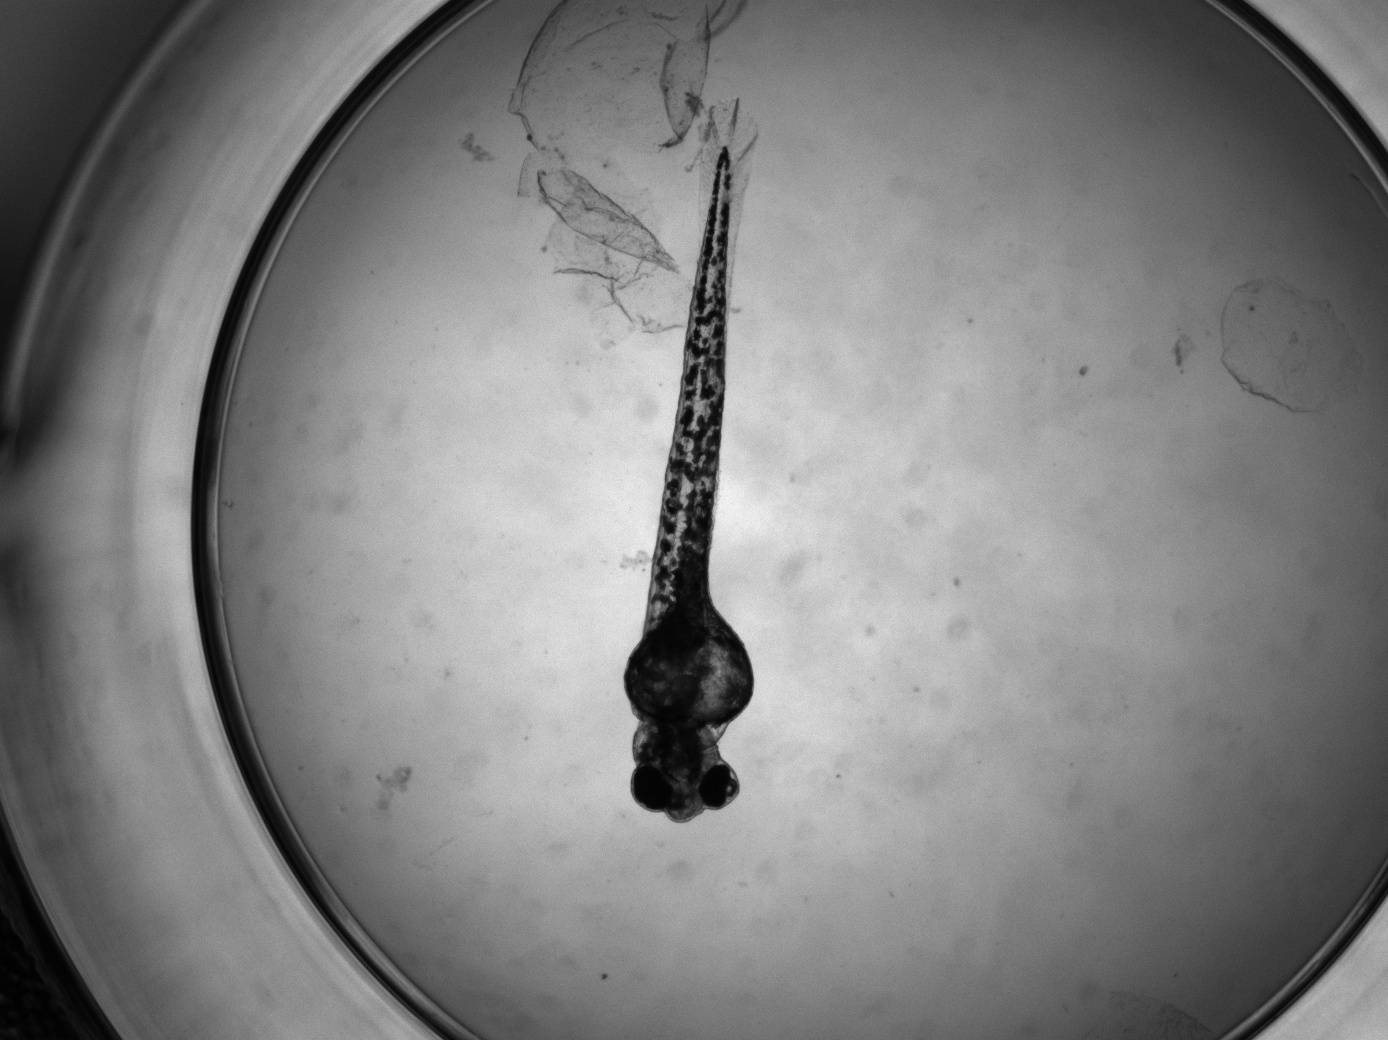debris: (505, 1, 749, 151), (515, 154, 700, 336), (1222, 275, 1368, 419)
embryo: (622, 146, 756, 824)
eye: (631, 766, 673, 812), (698, 764, 738, 809)
yolksac: (624, 619, 757, 729)
